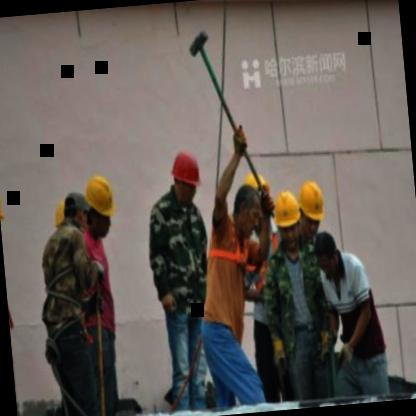head: (232, 184, 266, 242), (314, 228, 345, 278), (60, 192, 91, 238)
helmet: (78, 170, 118, 238), (166, 142, 204, 212), (294, 176, 328, 239), (270, 190, 304, 242)
